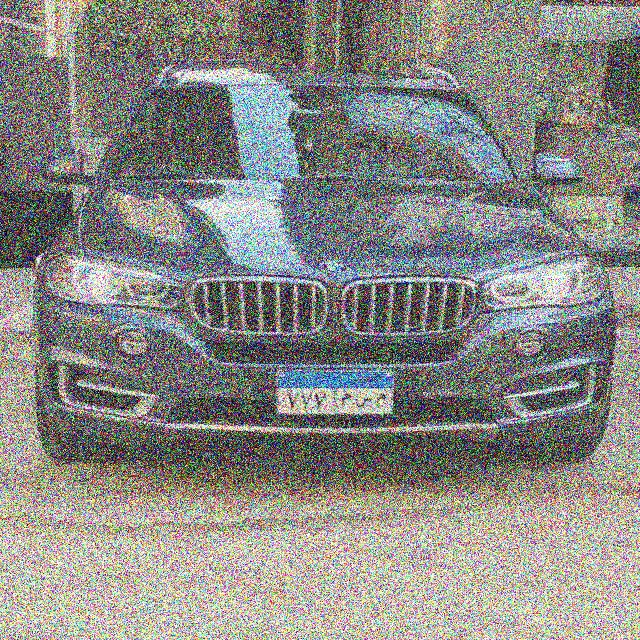License Plate: (276, 370, 393, 416)
